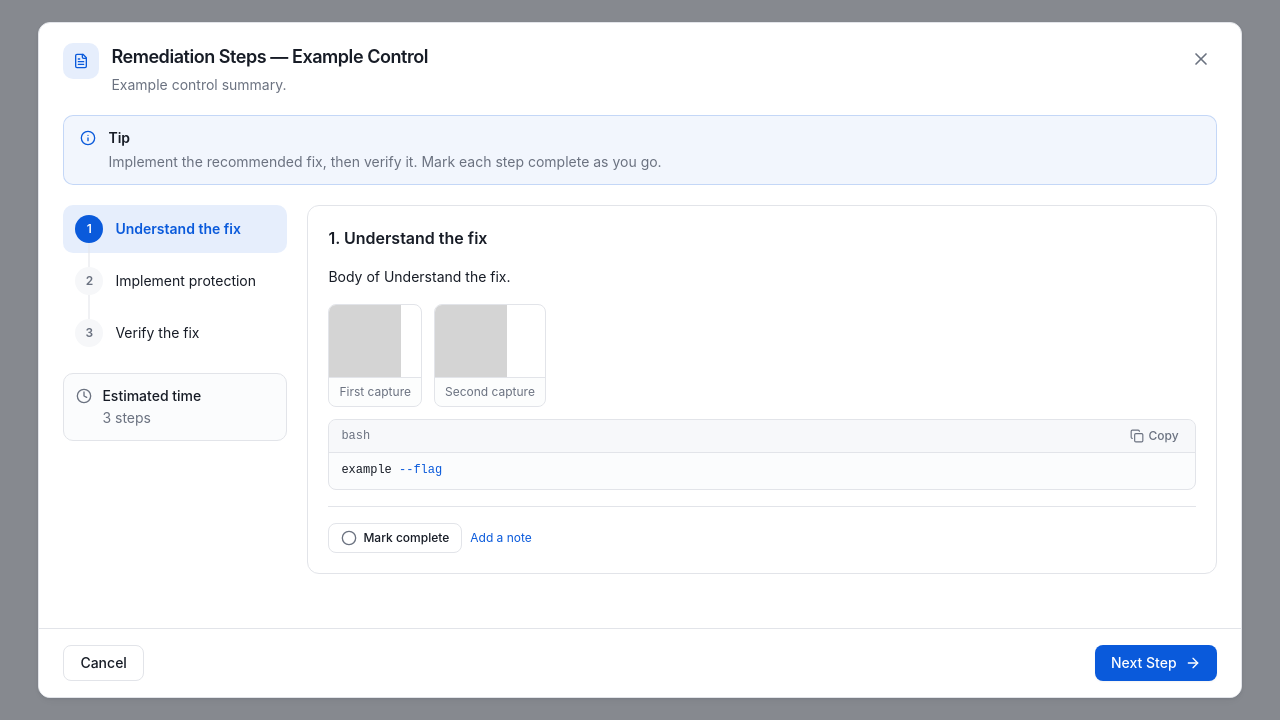
Test: the guided remediation steps › still supports a note against the active step
Click the button "Add a note": x=501, y=538 [470,530,532,546]
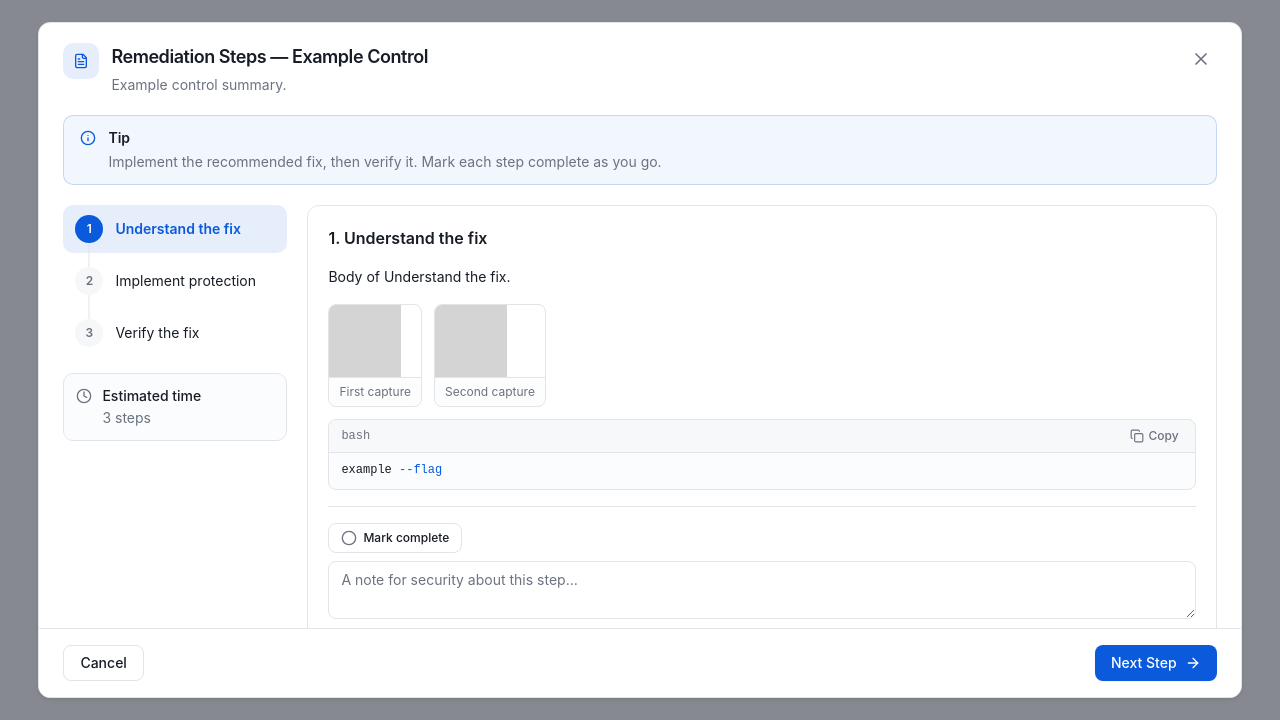
Check: the text box with placeholder "A note for security about this step…" is shown, box [328,561,1196,619]
